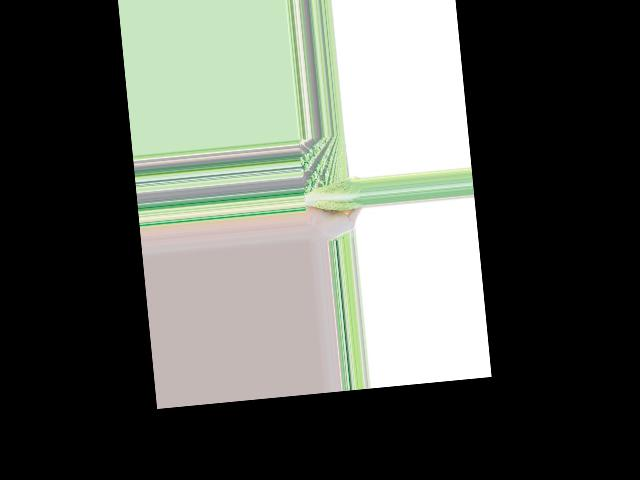lettuce: (302, 177, 362, 213)
